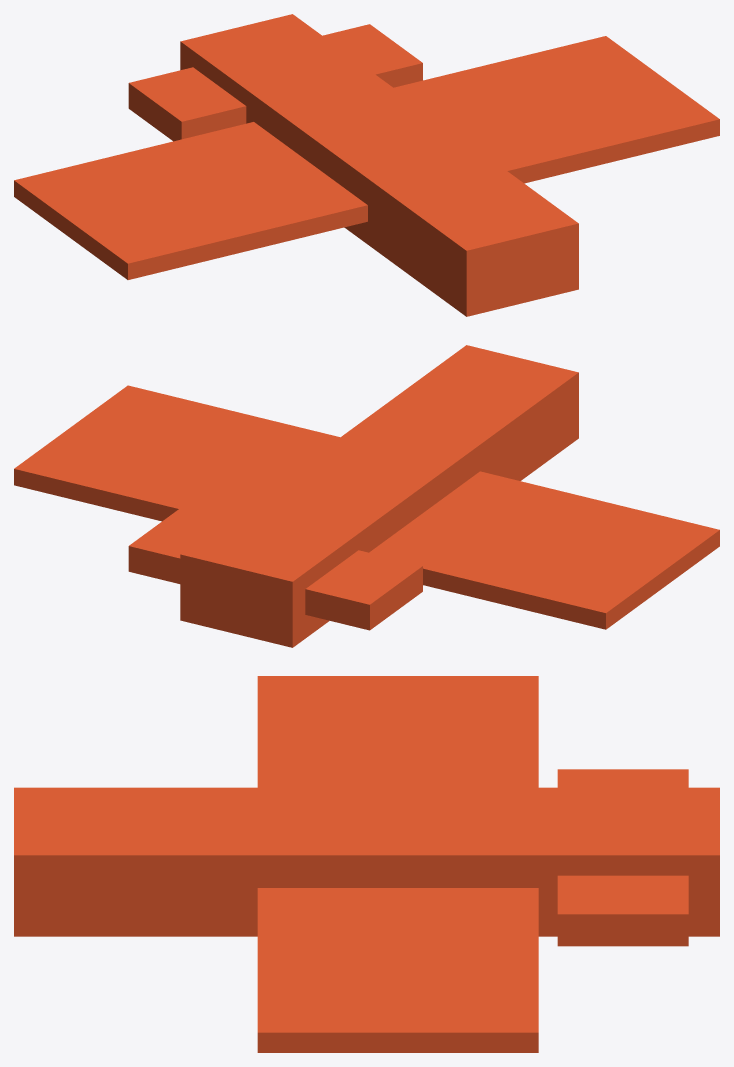
File: kestrel-mk1-authored-v2-collision.glb
The picture shows the model from 3 angles, top to bottom: view 1: azimuth 30°, elevation 25°; view 2: azimuth 150°, elevation 25°; view 3: azimuth 270°, elevation 25°; orthographic projection. The views are drawn at different scales.
Visible parts, largest first — view 1: Kestrel collision wing, Kestrel collision fuselage, Kestrel collision tail; view 2: Kestrel collision wing, Kestrel collision fuselage, Kestrel collision tail; view 3: Kestrel collision fuselage, Kestrel collision wing, Kestrel collision tail.
Boxes of the visible parts, x1,y1,x2,y2 form: Kestrel collision wing: (14, 36, 719, 279); Kestrel collision fuselage: (180, 14, 578, 316); Kestrel collision tail: (128, 24, 422, 141); Kestrel collision wing: (14, 385, 719, 629); Kestrel collision fuselage: (180, 345, 578, 647); Kestrel collision tail: (128, 507, 422, 630); Kestrel collision fuselage: (14, 787, 719, 936); Kestrel collision wing: (257, 676, 538, 1052); Kestrel collision tail: (557, 769, 688, 946).
Bounding box in the file's own units: 13.5 × 1.44 × 11.3.
